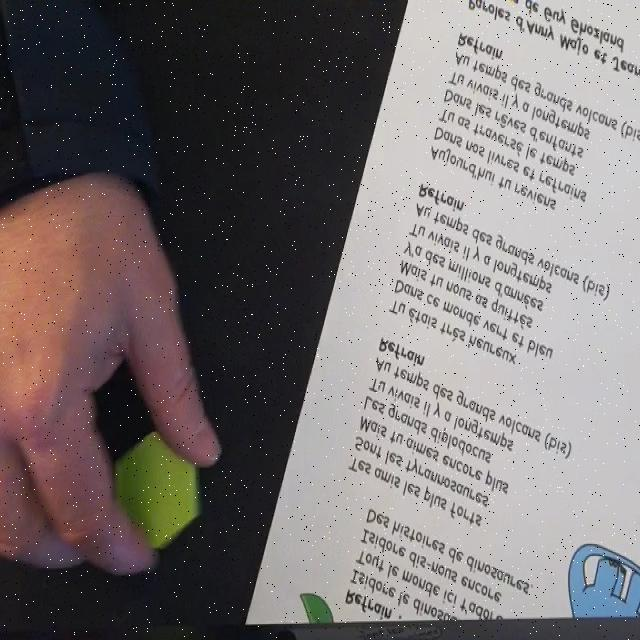hexagon: (110, 433, 200, 554)
